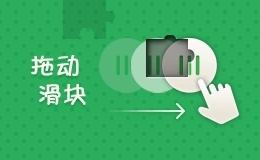target: (125, 20, 167, 58)
